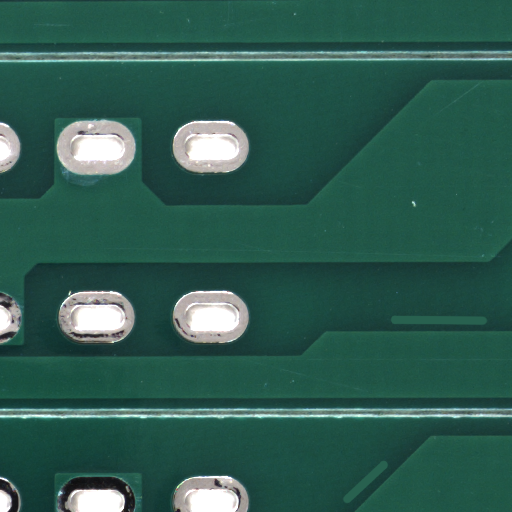Spurious_copper: (364, 481, 410, 512), (436, 320, 512, 335)
